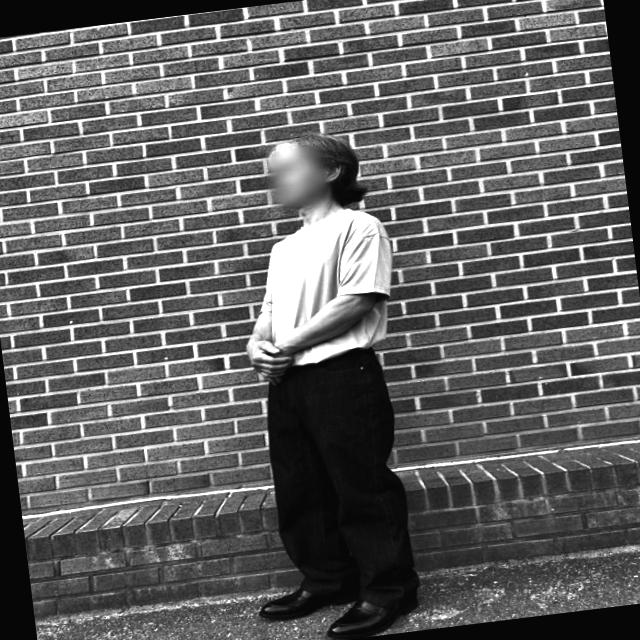denimpants: (256, 344, 422, 622)
shortsleeve: (251, 210, 408, 369)
